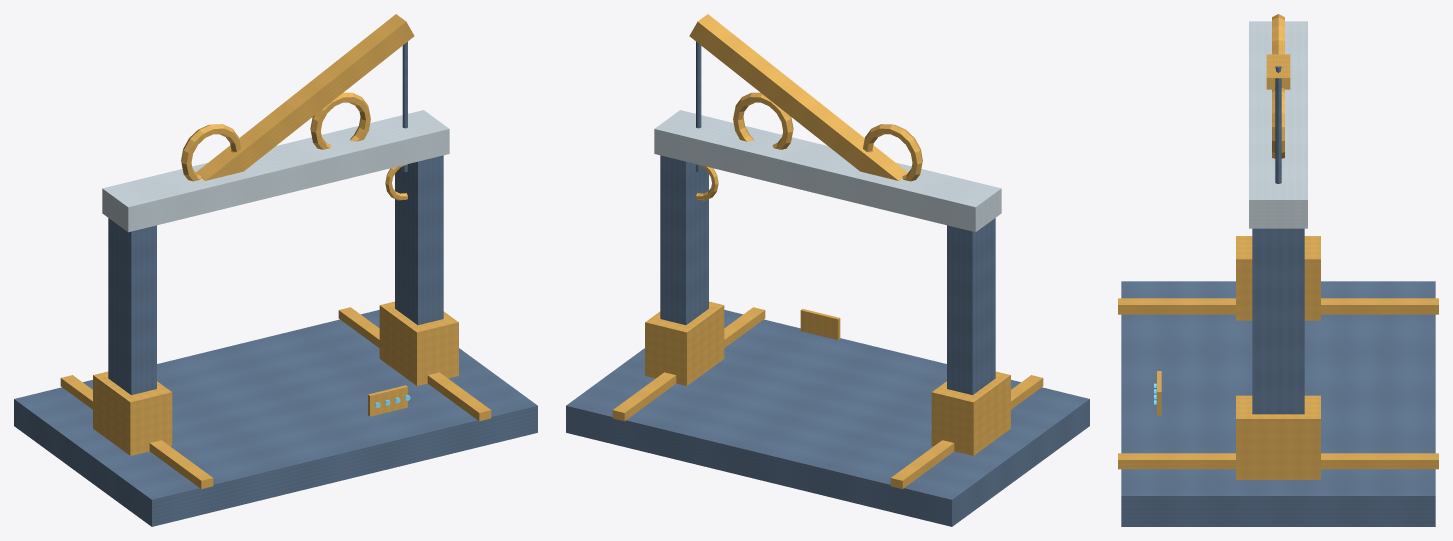
Rendered from atlas100-s059-a01.glb.
The picture shows the model from 3 angles, left to right: view 1: azimuth 30°, elevation 25°; view 2: azimuth 150°, elevation 25°; view 3: azimuth 270°, elevation 25°; orthographic projection. The views are drawn at different scales.
Visible parts, largest first — view 1: atlas100-s059-a01:part-000, atlas100-s059-a01:part-007, atlas100-s059-a01:part-003, atlas100-s059-a01:part-005, atlas100-s059-a01:part-008, atlas100-s059-a01:part-004, atlas100-s059-a01:part-006, atlas100-s059-a01:part-002, atlas100-s059-a01:part-001, atlas100-s059-a01:part-012, atlas100-s059-a01:part-011, atlas100-s059-a01:part-013; view 2: atlas100-s059-a01:part-000, atlas100-s059-a01:part-007, atlas100-s059-a01:part-003, atlas100-s059-a01:part-005, atlas100-s059-a01:part-008, atlas100-s059-a01:part-004, atlas100-s059-a01:part-006, atlas100-s059-a01:part-002, atlas100-s059-a01:part-001, atlas100-s059-a01:part-012, atlas100-s059-a01:part-011, atlas100-s059-a01:part-013; view 3: atlas100-s059-a01:part-000, atlas100-s059-a01:part-007, atlas100-s059-a01:part-005, atlas100-s059-a01:part-006, atlas100-s059-a01:part-001, atlas100-s059-a01:part-002, atlas100-s059-a01:part-004, atlas100-s059-a01:part-008, atlas100-s059-a01:part-009, atlas100-s059-a01:part-012, atlas100-s059-a01:part-011.
Part boxes in pixels (x1,y1,x2,y2): atlas100-s059-a01:part-000: (14, 310, 537, 526); atlas100-s059-a01:part-007: (102, 110, 449, 232); atlas100-s059-a01:part-003: (108, 218, 156, 395); atlas100-s059-a01:part-005: (395, 155, 443, 325); atlas100-s059-a01:part-008: (196, 14, 414, 180); atlas100-s059-a01:part-004: (93, 371, 172, 455); atlas100-s059-a01:part-006: (379, 301, 458, 385); atlas100-s059-a01:part-002: (338, 307, 491, 421); atlas100-s059-a01:part-001: (60, 375, 213, 488); atlas100-s059-a01:part-012: (310, 92, 370, 149); atlas100-s059-a01:part-011: (181, 124, 240, 181); atlas100-s059-a01:part-013: (368, 385, 407, 416); atlas100-s059-a01:part-000: (566, 310, 1089, 526); atlas100-s059-a01:part-007: (654, 110, 1001, 232); atlas100-s059-a01:part-003: (947, 218, 995, 395); atlas100-s059-a01:part-005: (660, 155, 708, 325); atlas100-s059-a01:part-008: (689, 14, 907, 180); atlas100-s059-a01:part-004: (931, 371, 1010, 455); atlas100-s059-a01:part-006: (645, 301, 724, 385); atlas100-s059-a01:part-002: (612, 307, 765, 421); atlas100-s059-a01:part-001: (890, 375, 1043, 488); atlas100-s059-a01:part-012: (733, 92, 793, 149); atlas100-s059-a01:part-011: (863, 124, 922, 181); atlas100-s059-a01:part-013: (800, 309, 840, 340); atlas100-s059-a01:part-000: (1121, 281, 1435, 526); atlas100-s059-a01:part-007: (1249, 21, 1307, 228); atlas100-s059-a01:part-005: (1252, 228, 1304, 414); atlas100-s059-a01:part-006: (1236, 395, 1320, 479); atlas100-s059-a01:part-001: (1118, 298, 1438, 314); atlas100-s059-a01:part-002: (1118, 453, 1438, 469); atlas100-s059-a01:part-004: (1236, 236, 1320, 320); atlas100-s059-a01:part-008: (1266, 54, 1290, 89); atlas100-s059-a01:part-009: (1275, 66, 1281, 183); atlas100-s059-a01:part-012: (1272, 88, 1284, 158); atlas100-s059-a01:part-011: (1272, 14, 1284, 54).
Bounding box in the file's own units: 3.88 × 3.66 × 2.45.
Materials: 4 (4 with a texture image).
